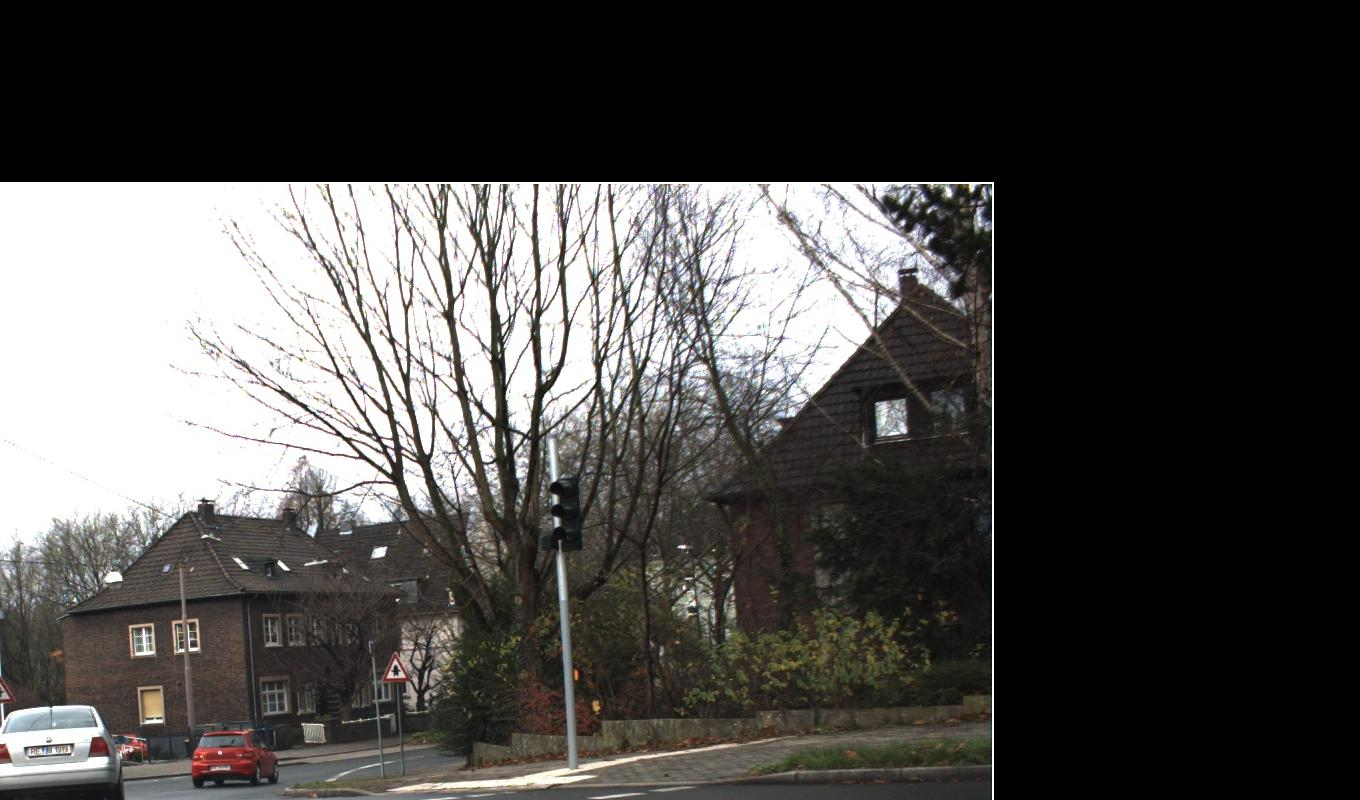priority at next intersection: (0, 651, 411, 704)
